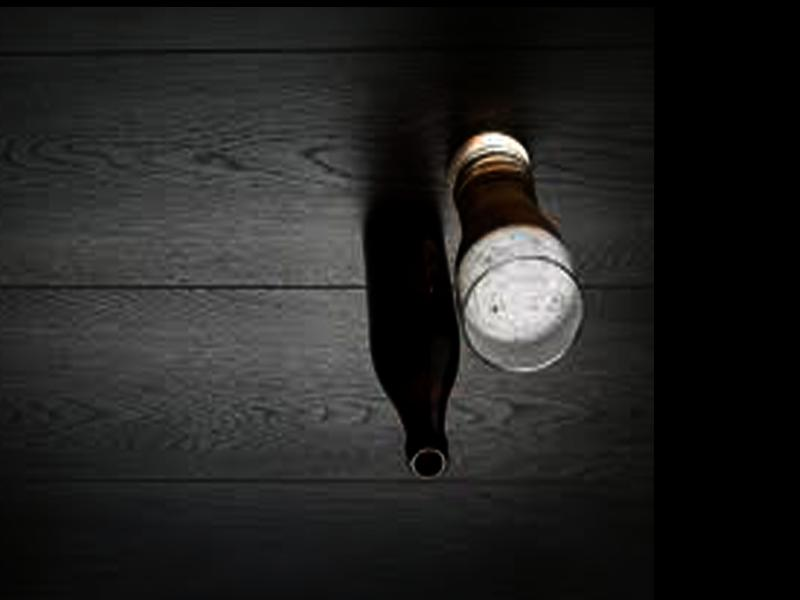Beer: (362, 193, 461, 482)
